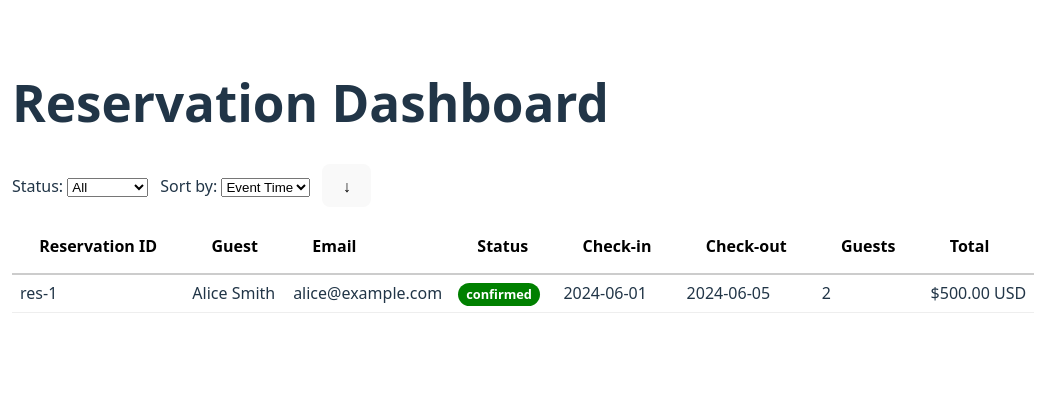
Test: App › 6. broadcast panel visible when filter active
Expected: the text "Alice Smith" is shown, [184,274,285,312]
Select "confirmed" in the dropdown labelled "Status:" at (108,187), box [67,178,148,197]
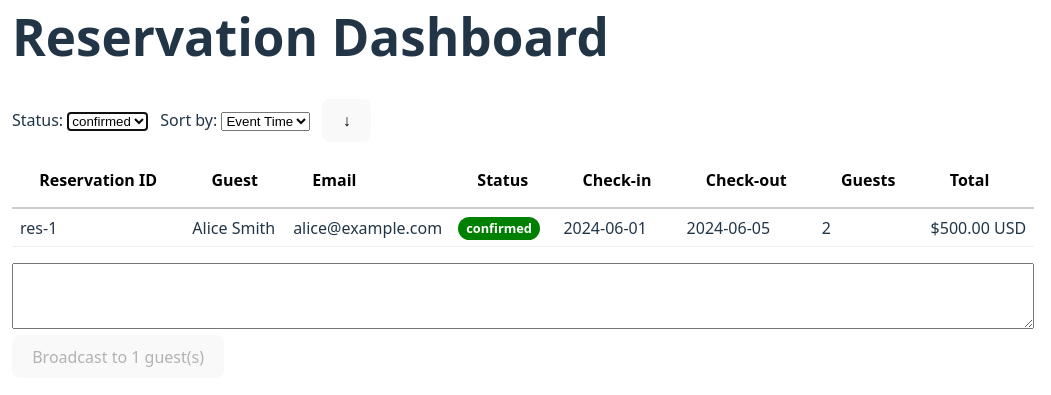
Expected: the text box is shown, [12,263,1034,329]
Expected: the button "Broadcast to 1 guest(s)" is shown, [12,335,224,378]
